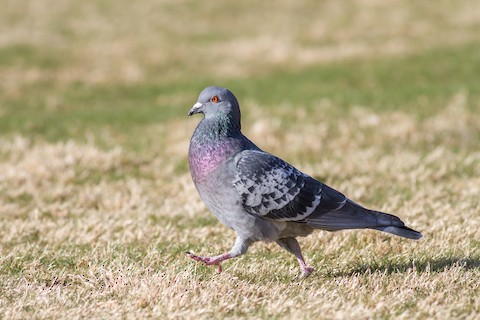pigeon: (176, 82, 430, 281)
